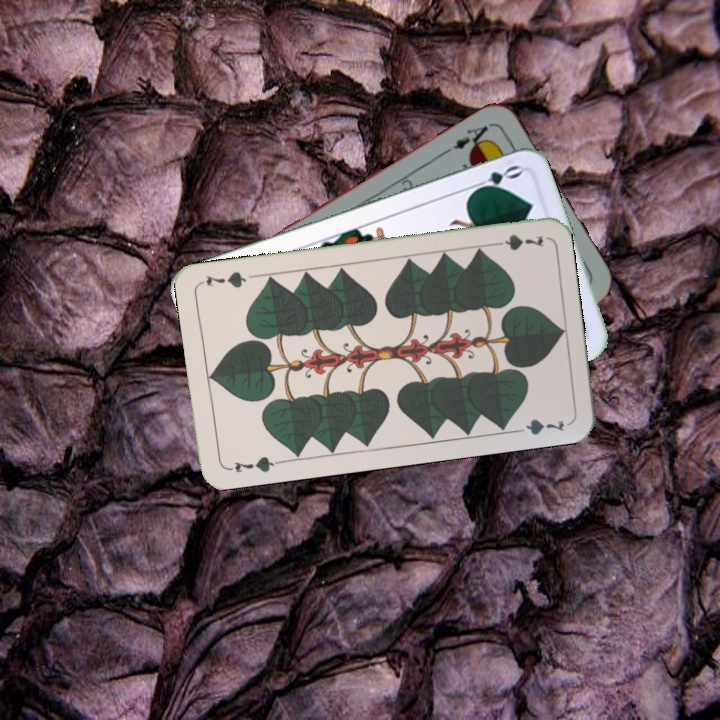EA: (442, 118, 495, 155)
G7: (224, 452, 283, 476), (487, 230, 547, 253)
GO: (466, 160, 524, 196)
